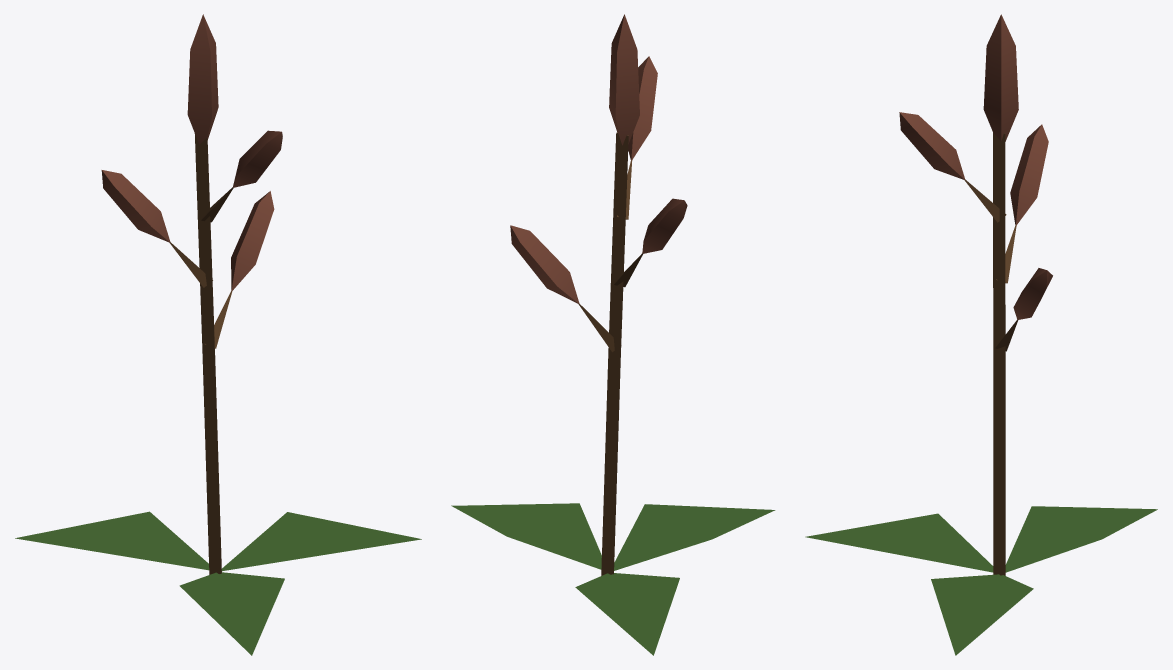
Rendered from Dock.fbx.
3 views of the same model, side by side, from view 1: azimuth 30°, elevation 25°; view 2: azimuth 150°, elevation 25°; view 3: azimuth 270°, elevation 25° (orthographic).
Visible parts, largest first — view 1: Dock; view 2: Dock; view 3: Dock.
Boxes of the visible parts, x1=… form: Dock: x1=15, y1=14, x2=421, y2=655; Dock: x1=451, y1=14, x2=775, y2=655; Dock: x1=805, y1=14, x2=1157, y2=655.
Size of the model in its own units: 0.592 by 1.07 by 0.604.
